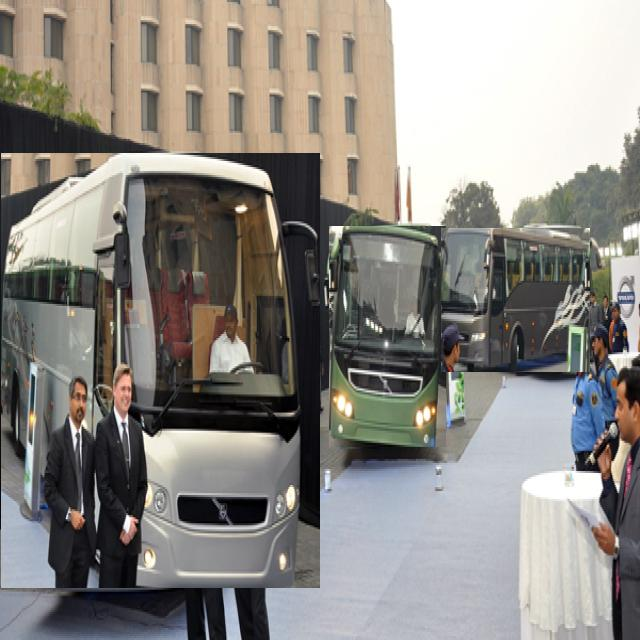bus: (1, 154, 320, 588), (329, 227, 446, 447), (441, 228, 590, 372)
